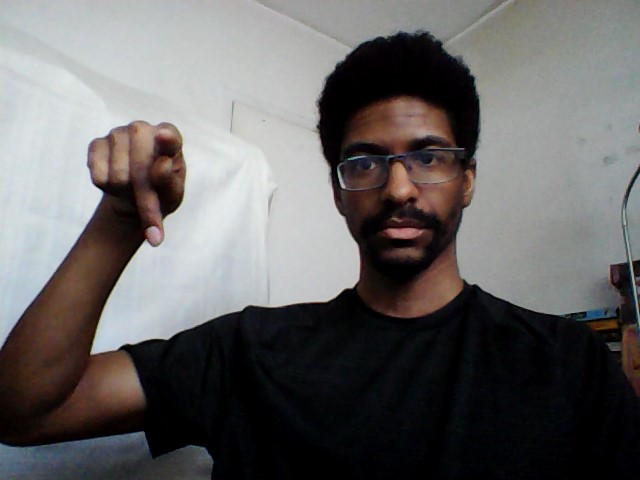p: (82, 110, 191, 250)
